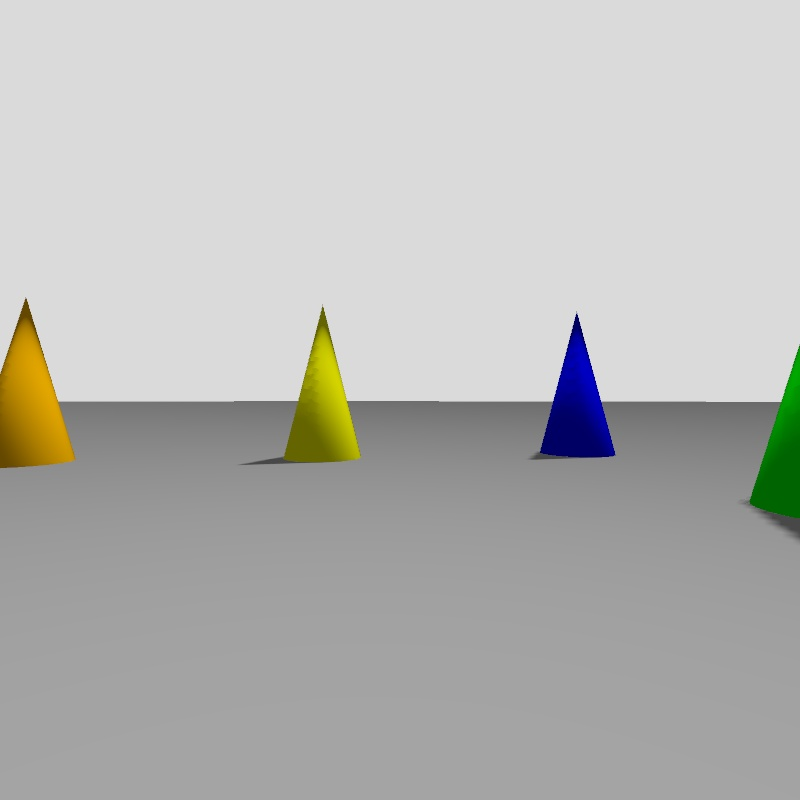Blue_cone: (539, 313, 613, 457)
Green_cone: (750, 348, 799, 517)
Orange_cone: (0, 299, 74, 467)
Yellow_cone: (283, 306, 360, 462)
